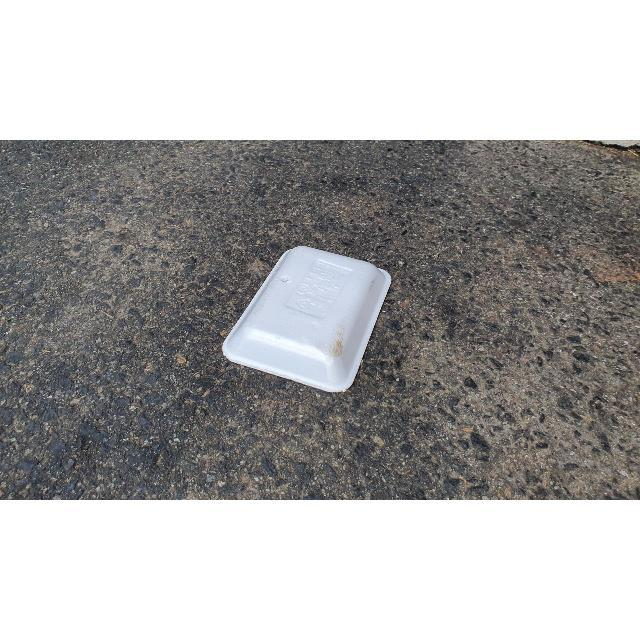Recipiente plastico: (222, 246, 390, 391)
